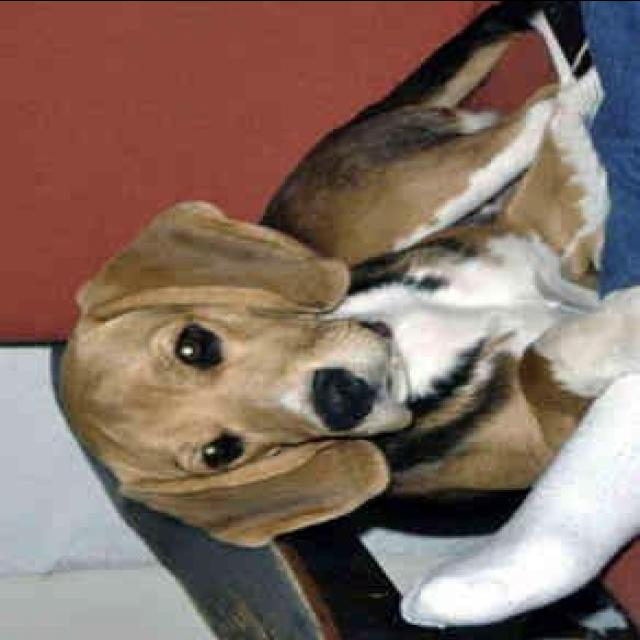beagle: (52, 2, 638, 553)
